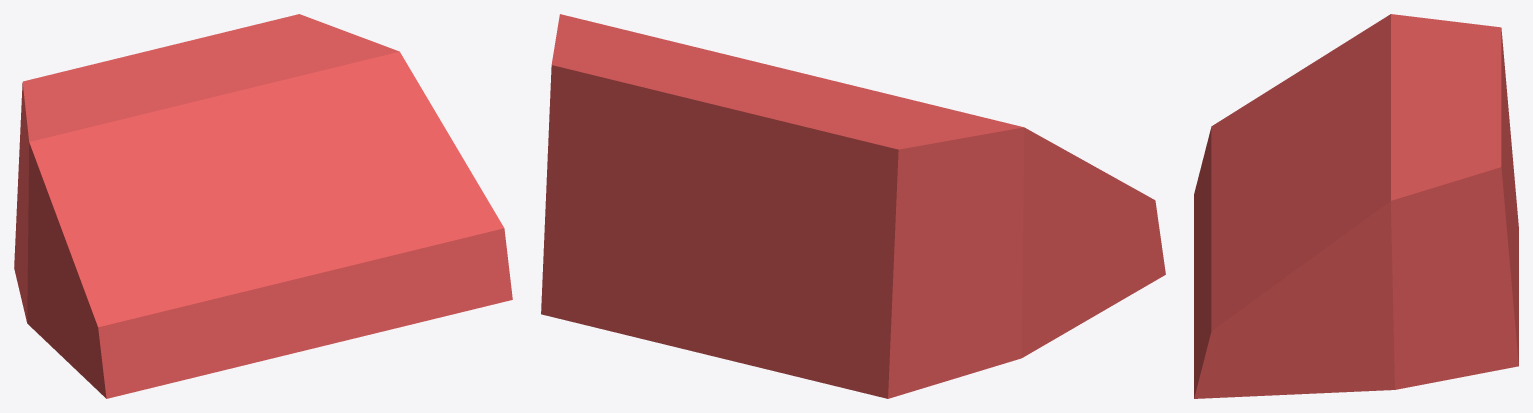
The model's file is mesh_boots_COLLISION.fbx.
3 views of the same model, side by side, from view 1: azimuth 30°, elevation 25°; view 2: azimuth 150°, elevation 25°; view 3: azimuth 270°, elevation 25° (orthographic). The views are drawn at different scales.
Parts seen in each view (by area): view 1: mesh_boots_COLLISION; view 2: mesh_boots_COLLISION; view 3: mesh_boots_COLLISION.
Part boxes in pixels (x1,y1,x2,y2): mesh_boots_COLLISION: [14, 14, 512, 398]; mesh_boots_COLLISION: [541, 14, 1165, 398]; mesh_boots_COLLISION: [1194, 14, 1518, 398].
Size of the model in its own units: 1.43 by 0.6467 by 0.9551.
